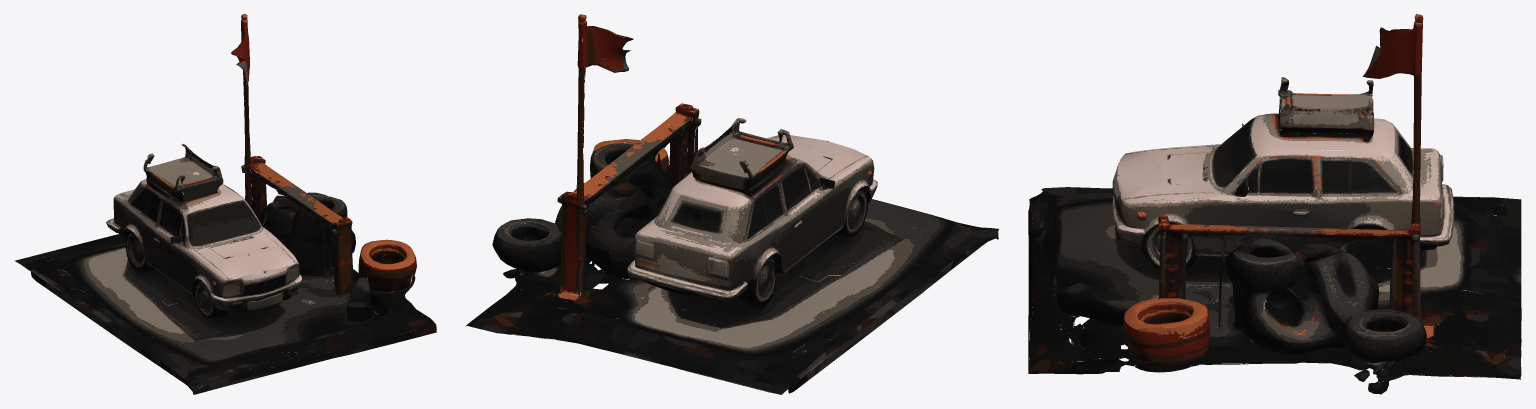
Rendered from skirmish.glb.
3 views of the same model, side by side, from view 1: azimuth 30°, elevation 25°; view 2: azimuth 150°, elevation 25°; view 3: azimuth 270°, elevation 25° (orthographic). The views are drawn at different scales.
Parts seen in each view (by area): view 1: skirmish; view 2: skirmish; view 3: skirmish.
Boxes of the visible parts, x1,y1,x2,y2 form: skirmish: (14,14,436,394); skirmish: (465,14,998,394); skirmish: (1028,14,1521,394).
Size of the model in its own units: 2.35 by 1.93 by 2.6.
1 material, 1 textured.
